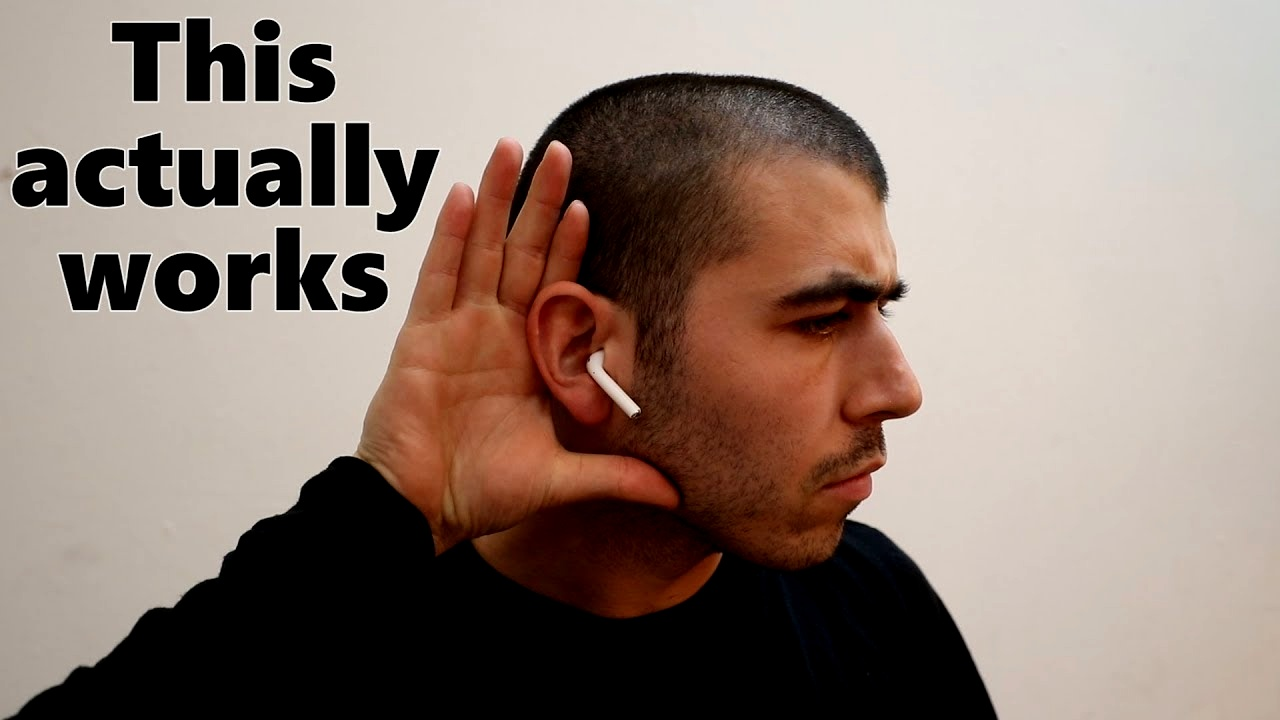earphone: (524, 282, 646, 426)
